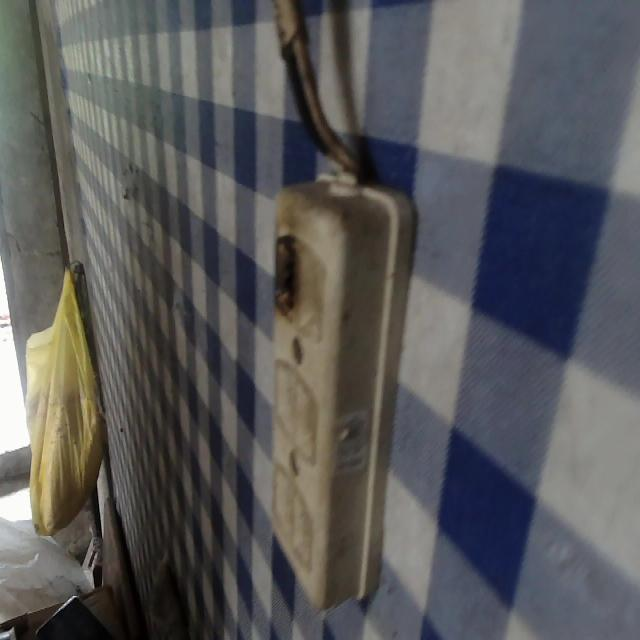-: (271, 227, 306, 320)
